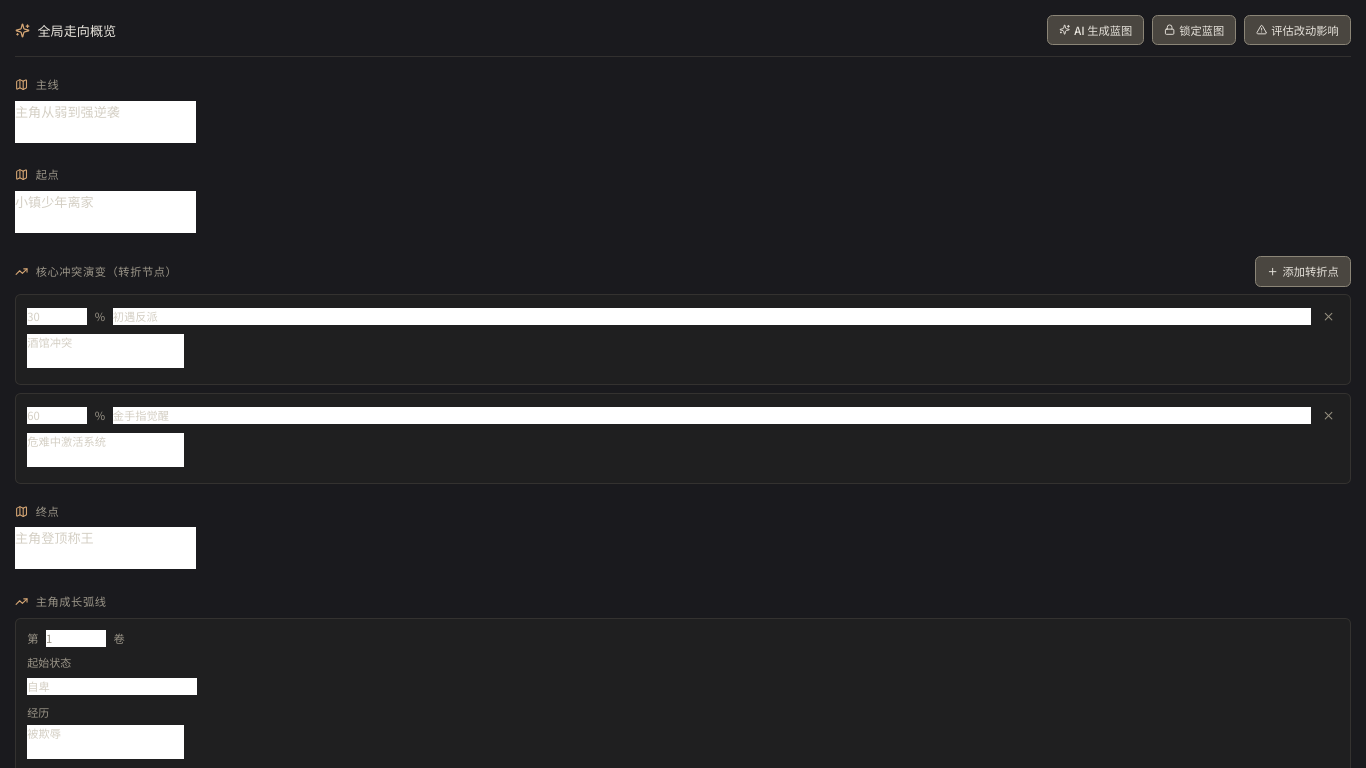
Scenario: BlueprintPanel › 点击"评估改动影响"展开输入区
The image size is (1366, 768).
Click the button labelled "评估改动影响": [1298, 30] box [1244,15,1351,45]
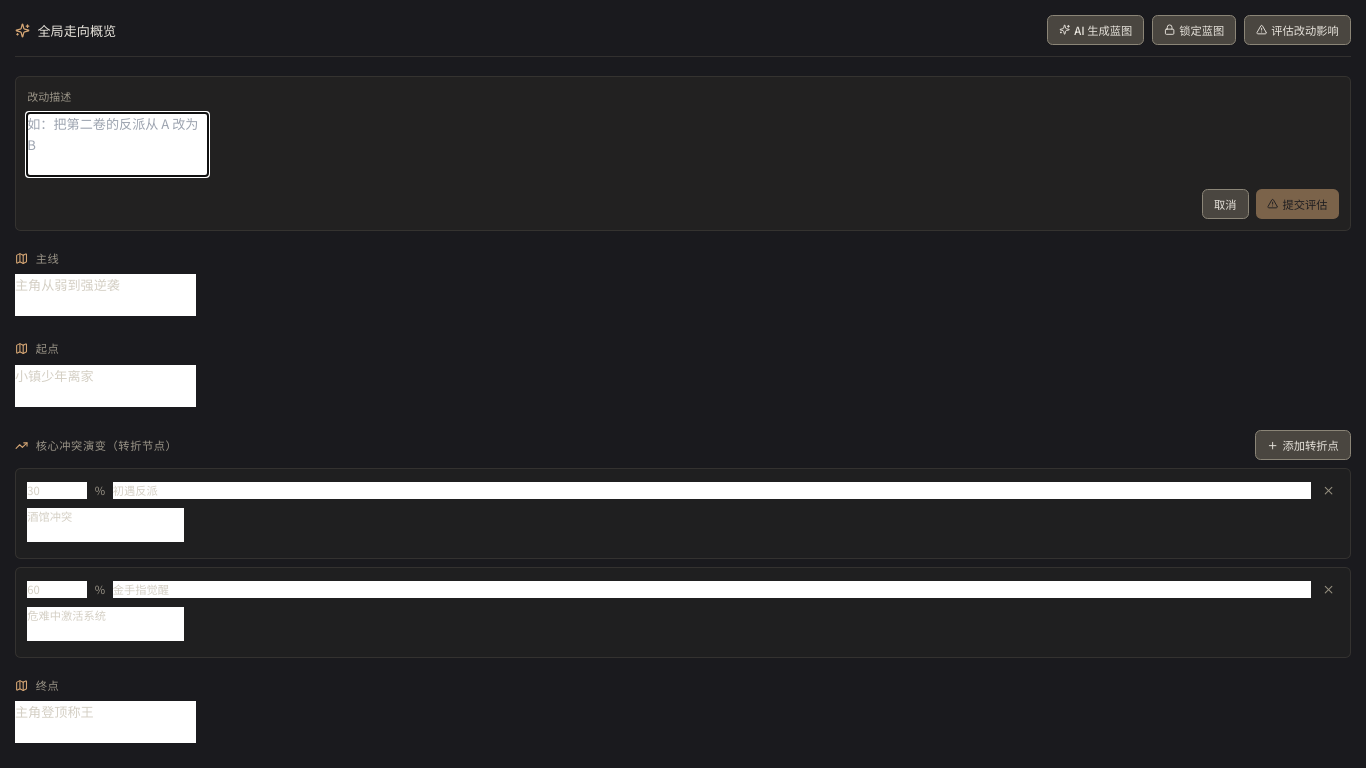
Now the text box with placeholder "如：把第二卷的反派从 A 改为 B" is shown, box [27,114,208,176]
Now the button "提交评估" is shown, box [1256,189,1339,219]
Now the button "取消" is shown, box [1202,189,1249,219]
